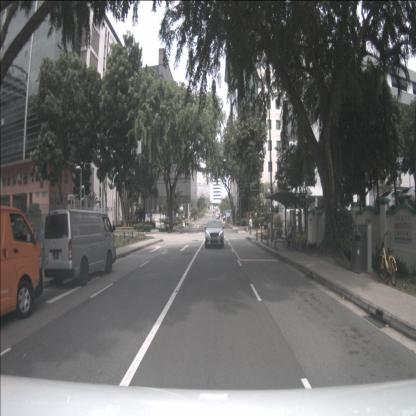human-pedestrian-adult: (286, 220, 294, 248), (249, 217, 252, 235), (184, 218, 187, 228), (187, 218, 189, 228), (224, 214, 226, 221), (223, 215, 224, 222)
vehicle-bicycle: (377, 233, 397, 286), (294, 228, 303, 249), (299, 227, 306, 248)
vehicle-car: (43, 210, 116, 286), (0, 205, 43, 318), (205, 219, 224, 247)
